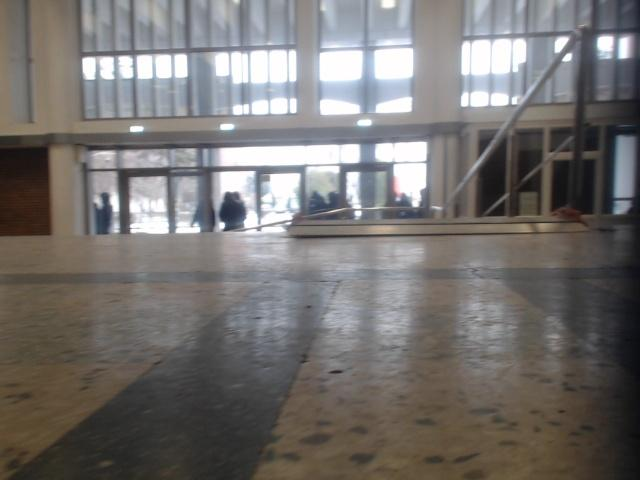rampDown: (289, 217, 586, 238)
ramps-railing: (436, 25, 593, 212), (482, 153, 555, 215)
